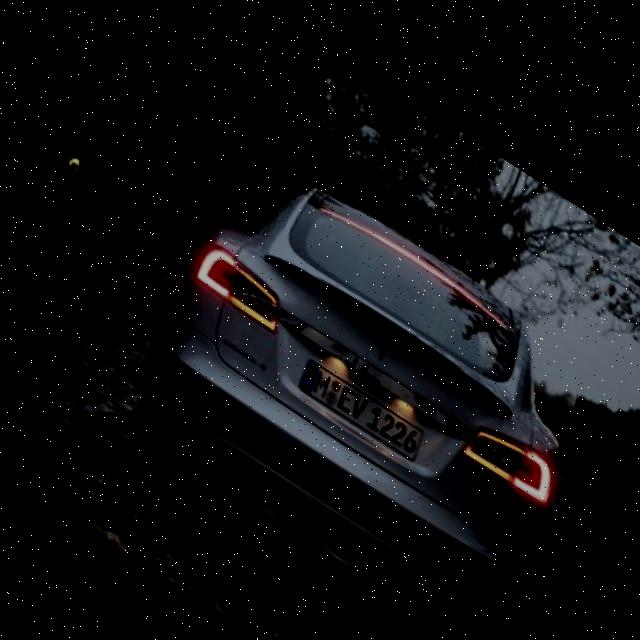license_plate: (284, 343, 417, 449)
